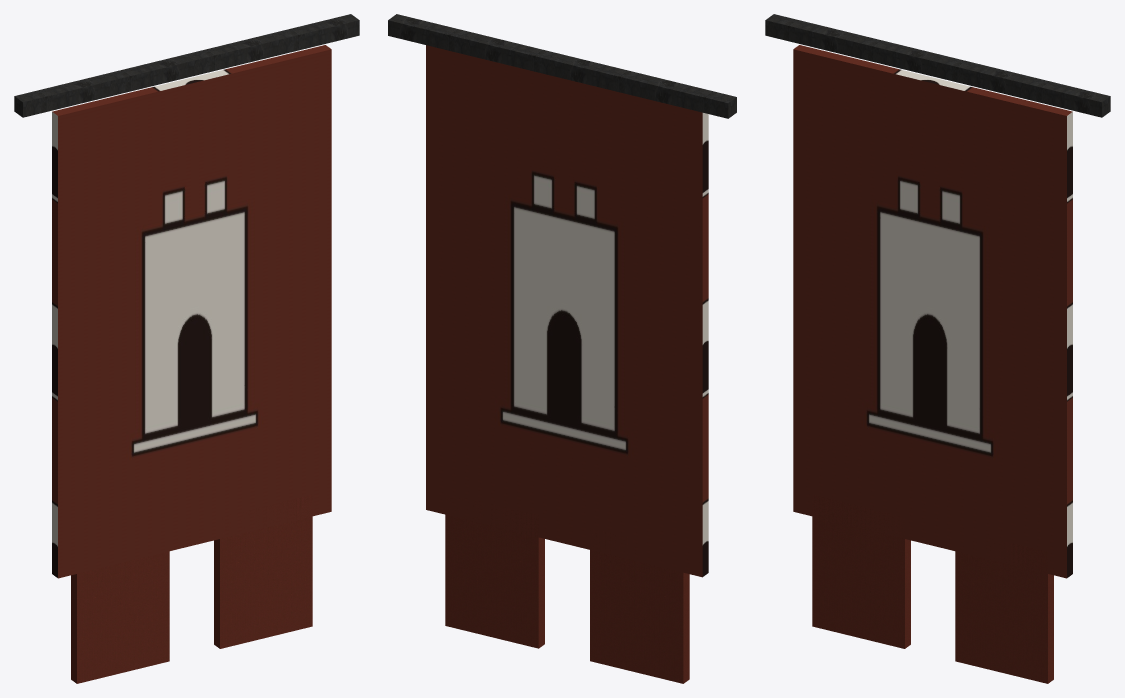
Rendered from prop_hk_banner_wall.glb.
3 renders of one model, left to right at view 1: azimuth 30°, elevation 25°; view 2: azimuth 150°, elevation 25°; view 3: azimuth 330°, elevation 25°, orthographic.
Parts seen in each view (by area): view 1: prop_hk_banner_wall; view 2: prop_hk_banner_wall; view 3: prop_hk_banner_wall.
Part boxes in pixels (x1,y1,x2,y2): prop_hk_banner_wall: [14, 14, 359, 683]; prop_hk_banner_wall: [388, 14, 736, 683]; prop_hk_banner_wall: [765, 14, 1110, 683].
Bounding box in the file's own units: 1.6 × 2.69 × 0.1.
3 materials, 3 textured.
